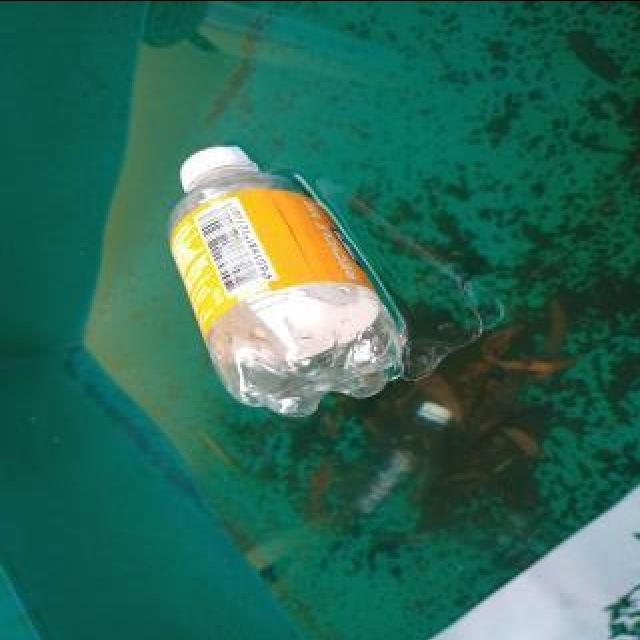Bottle: (154, 134, 412, 421)
